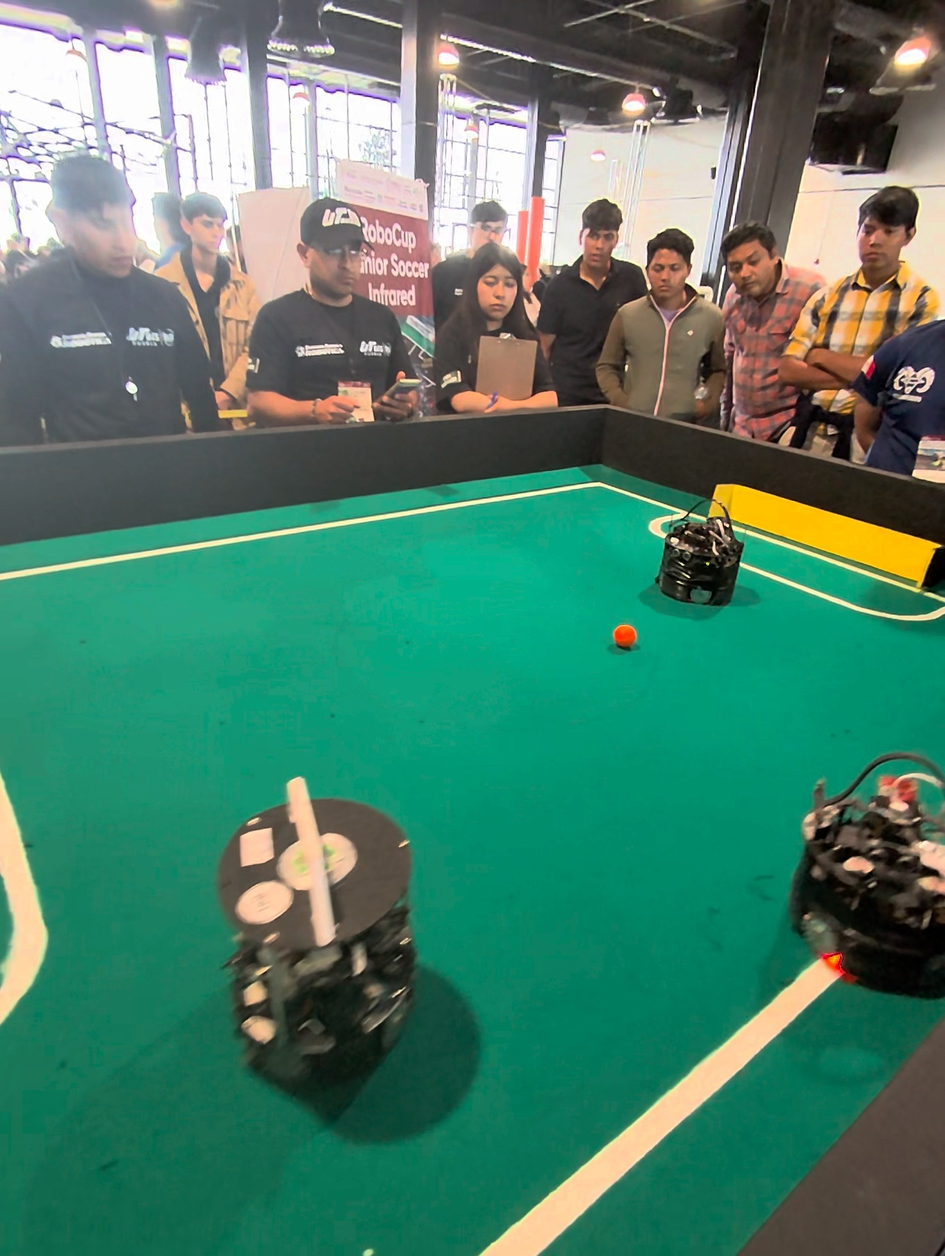Robot: (191, 762, 429, 1128), (786, 730, 945, 1007), (654, 492, 748, 617)
pelota: (613, 623, 640, 649)
